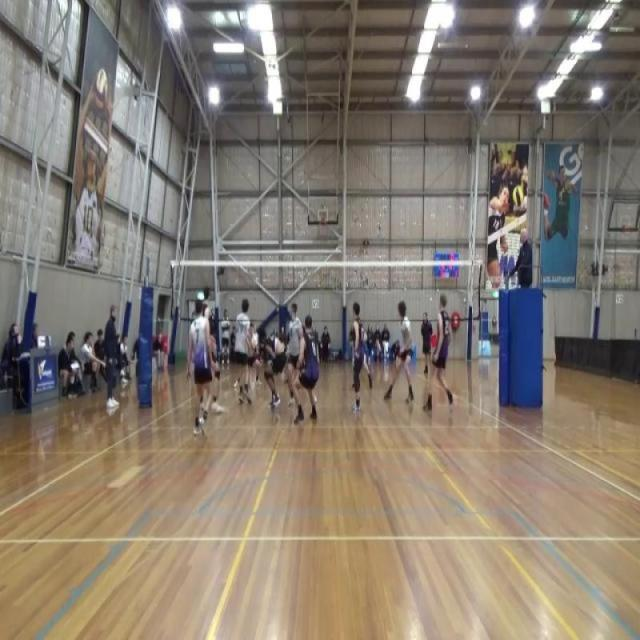volleyball: (94, 68, 107, 110), (513, 184, 524, 205)
